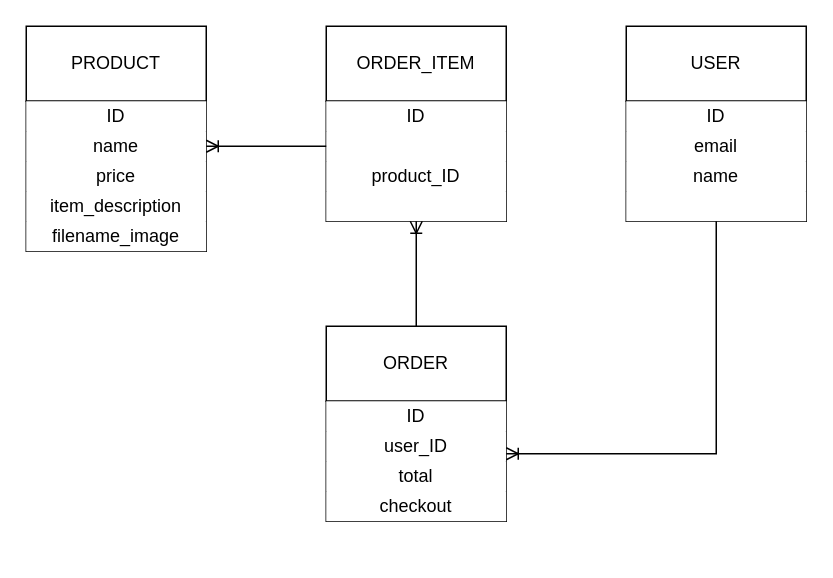
Image size: 833x578. Some labels were removed from this diagram. Here are the shapes that lost their labels. From the top down, the centre of each, then its label:
At (416,145): "order_ID".
At (416,205): "quantity".
At (716,205): "password".
